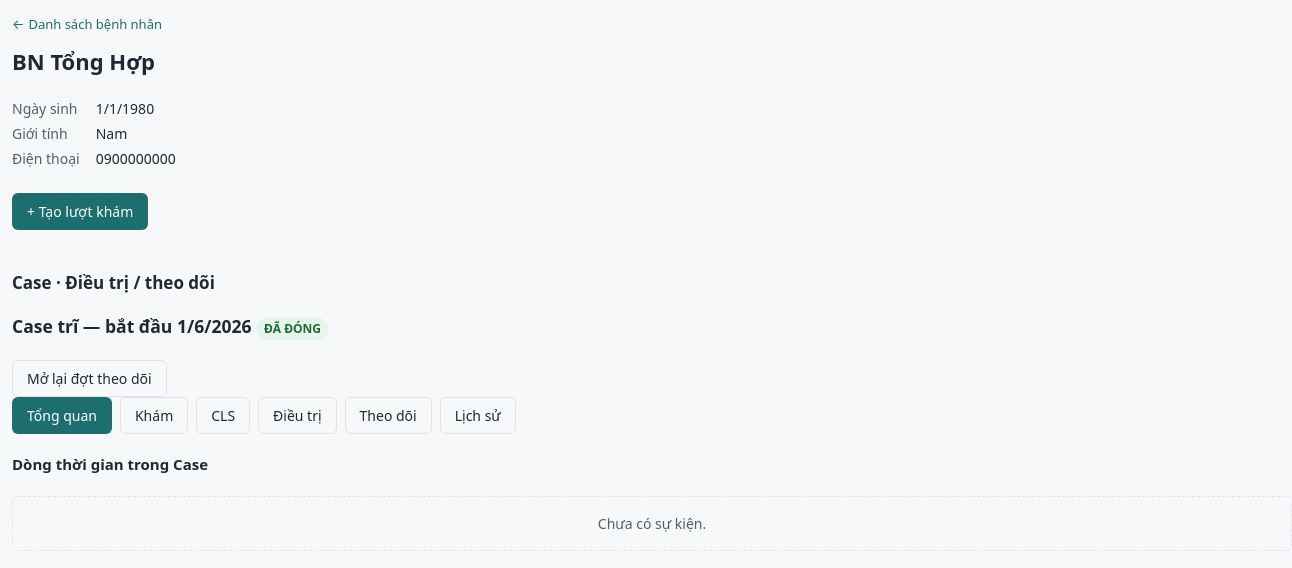
Test: PatientDetailPage — unified visit entry (DEMO UI) › a CLOSED Hemorrhoid Case is not "active" → "Khám trĩ" is offered again
What coordinates should you click on to do the following:
click the button "+ Tạo lượt khám"
I would click on:
 (80, 211)
Its box is [12, 192, 148, 230].
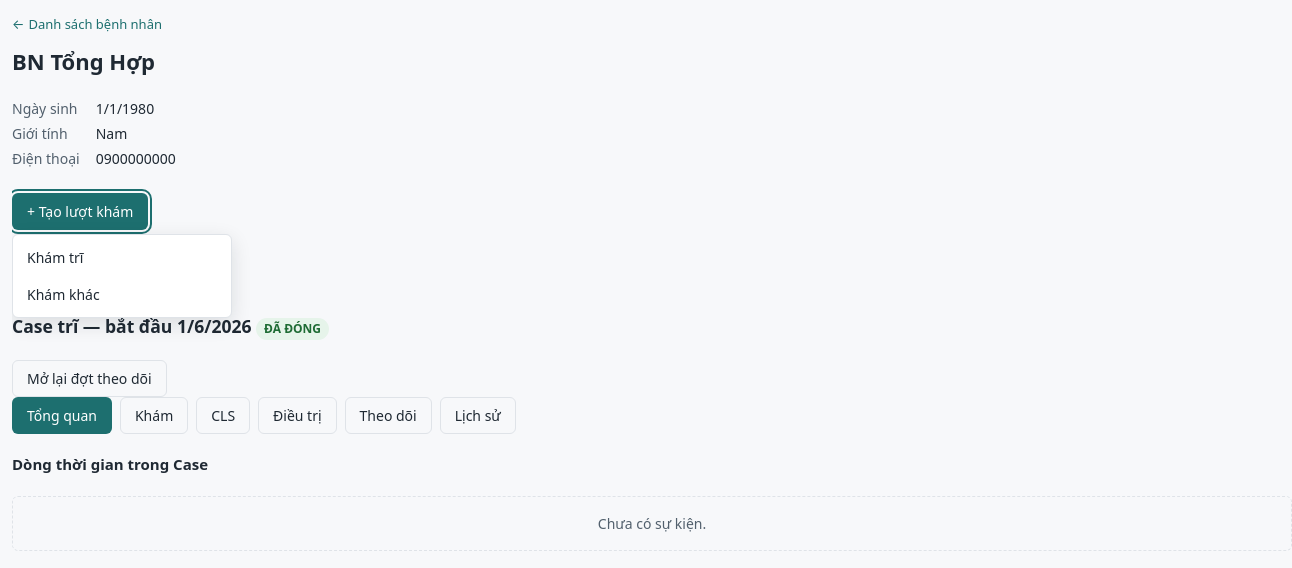
Now the menu item "Khám trĩ" is shown, box [27, 248, 83, 266]
